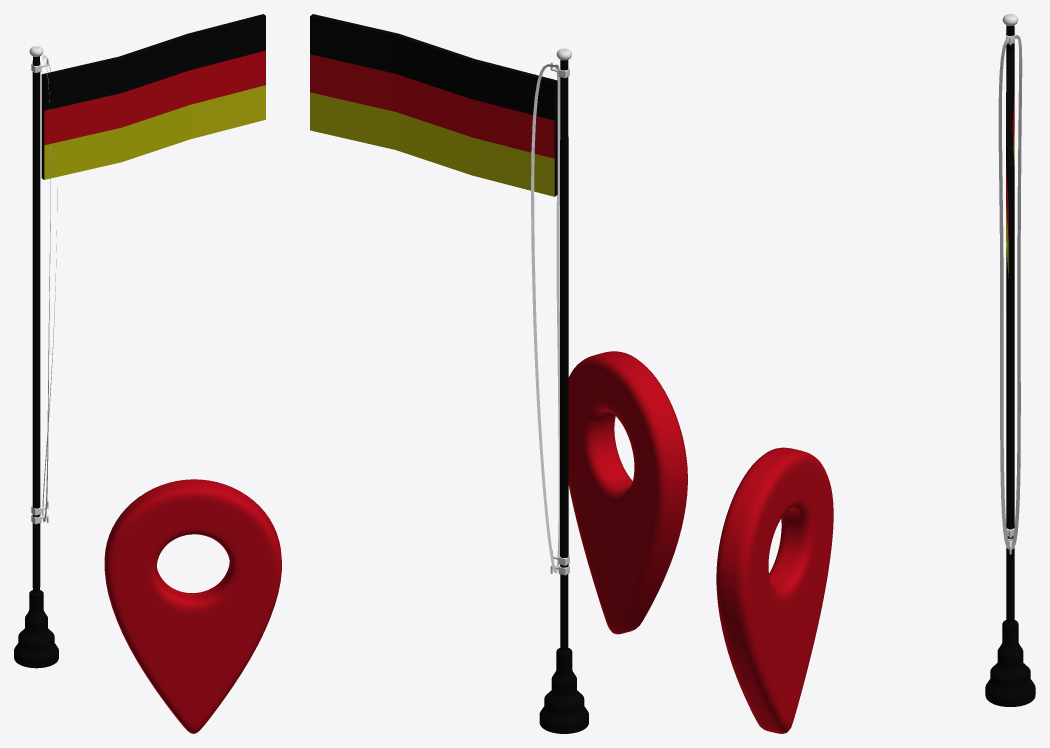
File: position.glb
The picture shows the model from 3 angles, left to right: view 1: azimuth 30°, elevation 25°; view 2: azimuth 150°, elevation 25°; view 3: azimuth 270°, elevation 25°; orthographic projection. The views are drawn at different scales.
Parts seen in each view (by area): view 1: Cylinder.004, Cube.003, Cube.001, Cube.002, Cylinder.002, Cylinder, BezierCircle_BezierCircle.001; view 2: Cylinder.004, Cube.003, Cube.002, Cube.001, Cylinder.002, BezierCircle_BezierCircle.001, Cylinder; view 3: Cylinder.004, BezierCircle_BezierCircle.001, Cylinder.002, Cylinder, Cube.003.
Part boxes in pixels (x1=…): Cylinder.004: x1=104, y1=479, x2=281, y2=733; Cube.003: x1=41, y1=14, x2=265, y2=179; Cube.001: x1=44, y1=85, x2=265, y2=179; Cube.002: x1=44, y1=50, x2=265, y2=145; Cylinder.002: x1=32, y1=56, x2=40, y2=592; Cylinder: x1=14, y1=590, x2=58, y2=668; BezierCircle_BezierCircle.001: x1=42, y1=55, x2=57, y2=522; Cylinder.004: x1=568, y1=351, x2=687, y2=634; Cube.003: x1=310, y1=14, x2=557, y2=196; Cube.002: x1=310, y1=54, x2=554, y2=158; Cube.001: x1=310, y1=92, x2=554, y2=196; Cylinder.002: x1=560, y1=60, x2=568, y2=651; BezierCircle_BezierCircle.001: x1=531, y1=64, x2=560, y2=573; Cylinder: x1=539, y1=648, x2=588, y2=733; Cylinder.004: x1=716, y1=447, x2=833, y2=733; BezierCircle_BezierCircle.001: x1=998, y1=35, x2=1022, y2=549; Cylinder.002: x1=1006, y1=25, x2=1014, y2=623; Cylinder: x1=985, y1=620, x2=1035, y2=706; Cube.003: x1=1006, y1=52, x2=1014, y2=281.
Size of the model in its own units: 7.52 by 17.81 by 7.48.
